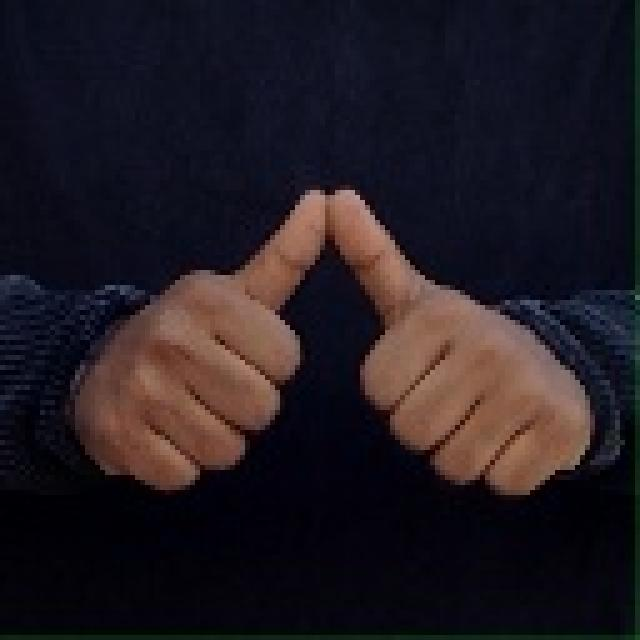Alphabet-A: (68, 187, 584, 526)
